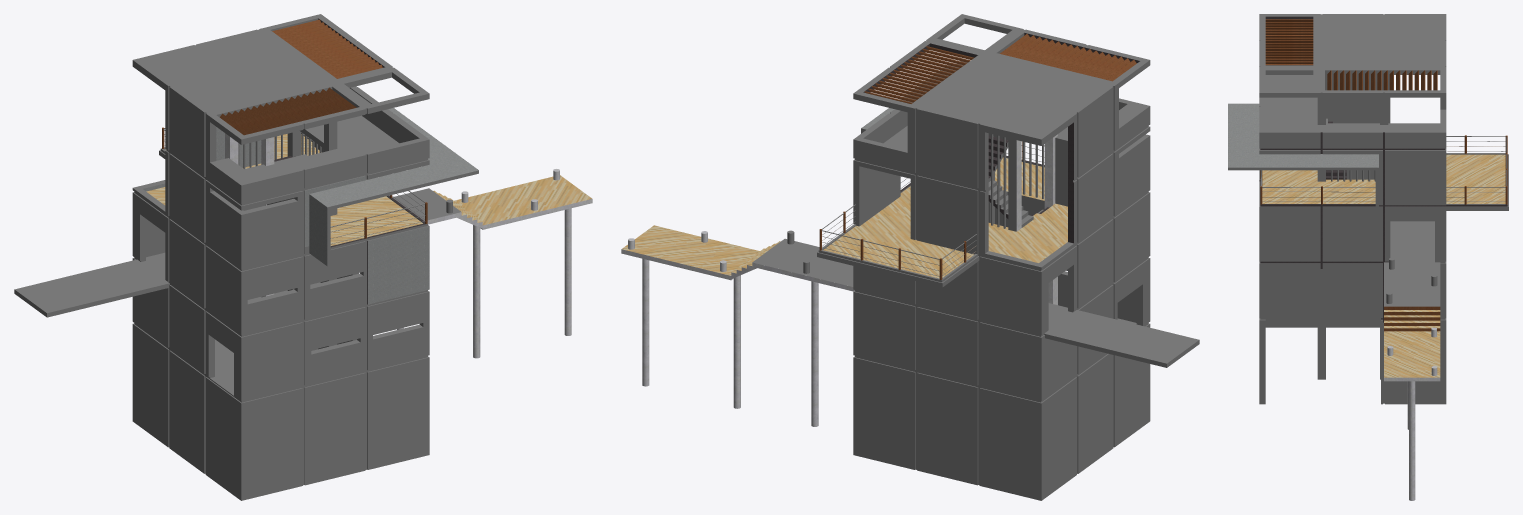
Rendered from GLB01.glb.
The picture shows the model from 3 angles, left to right: view 1: azimuth 30°, elevation 25°; view 2: azimuth 150°, elevation 25°; view 3: azimuth 270°, elevation 25°; orthographic projection. The views are drawn at different scales.
Bounding box in the file's own units: 26.07 × 16.51 × 13.5.
Materials: 9 (8 with a texture image).
